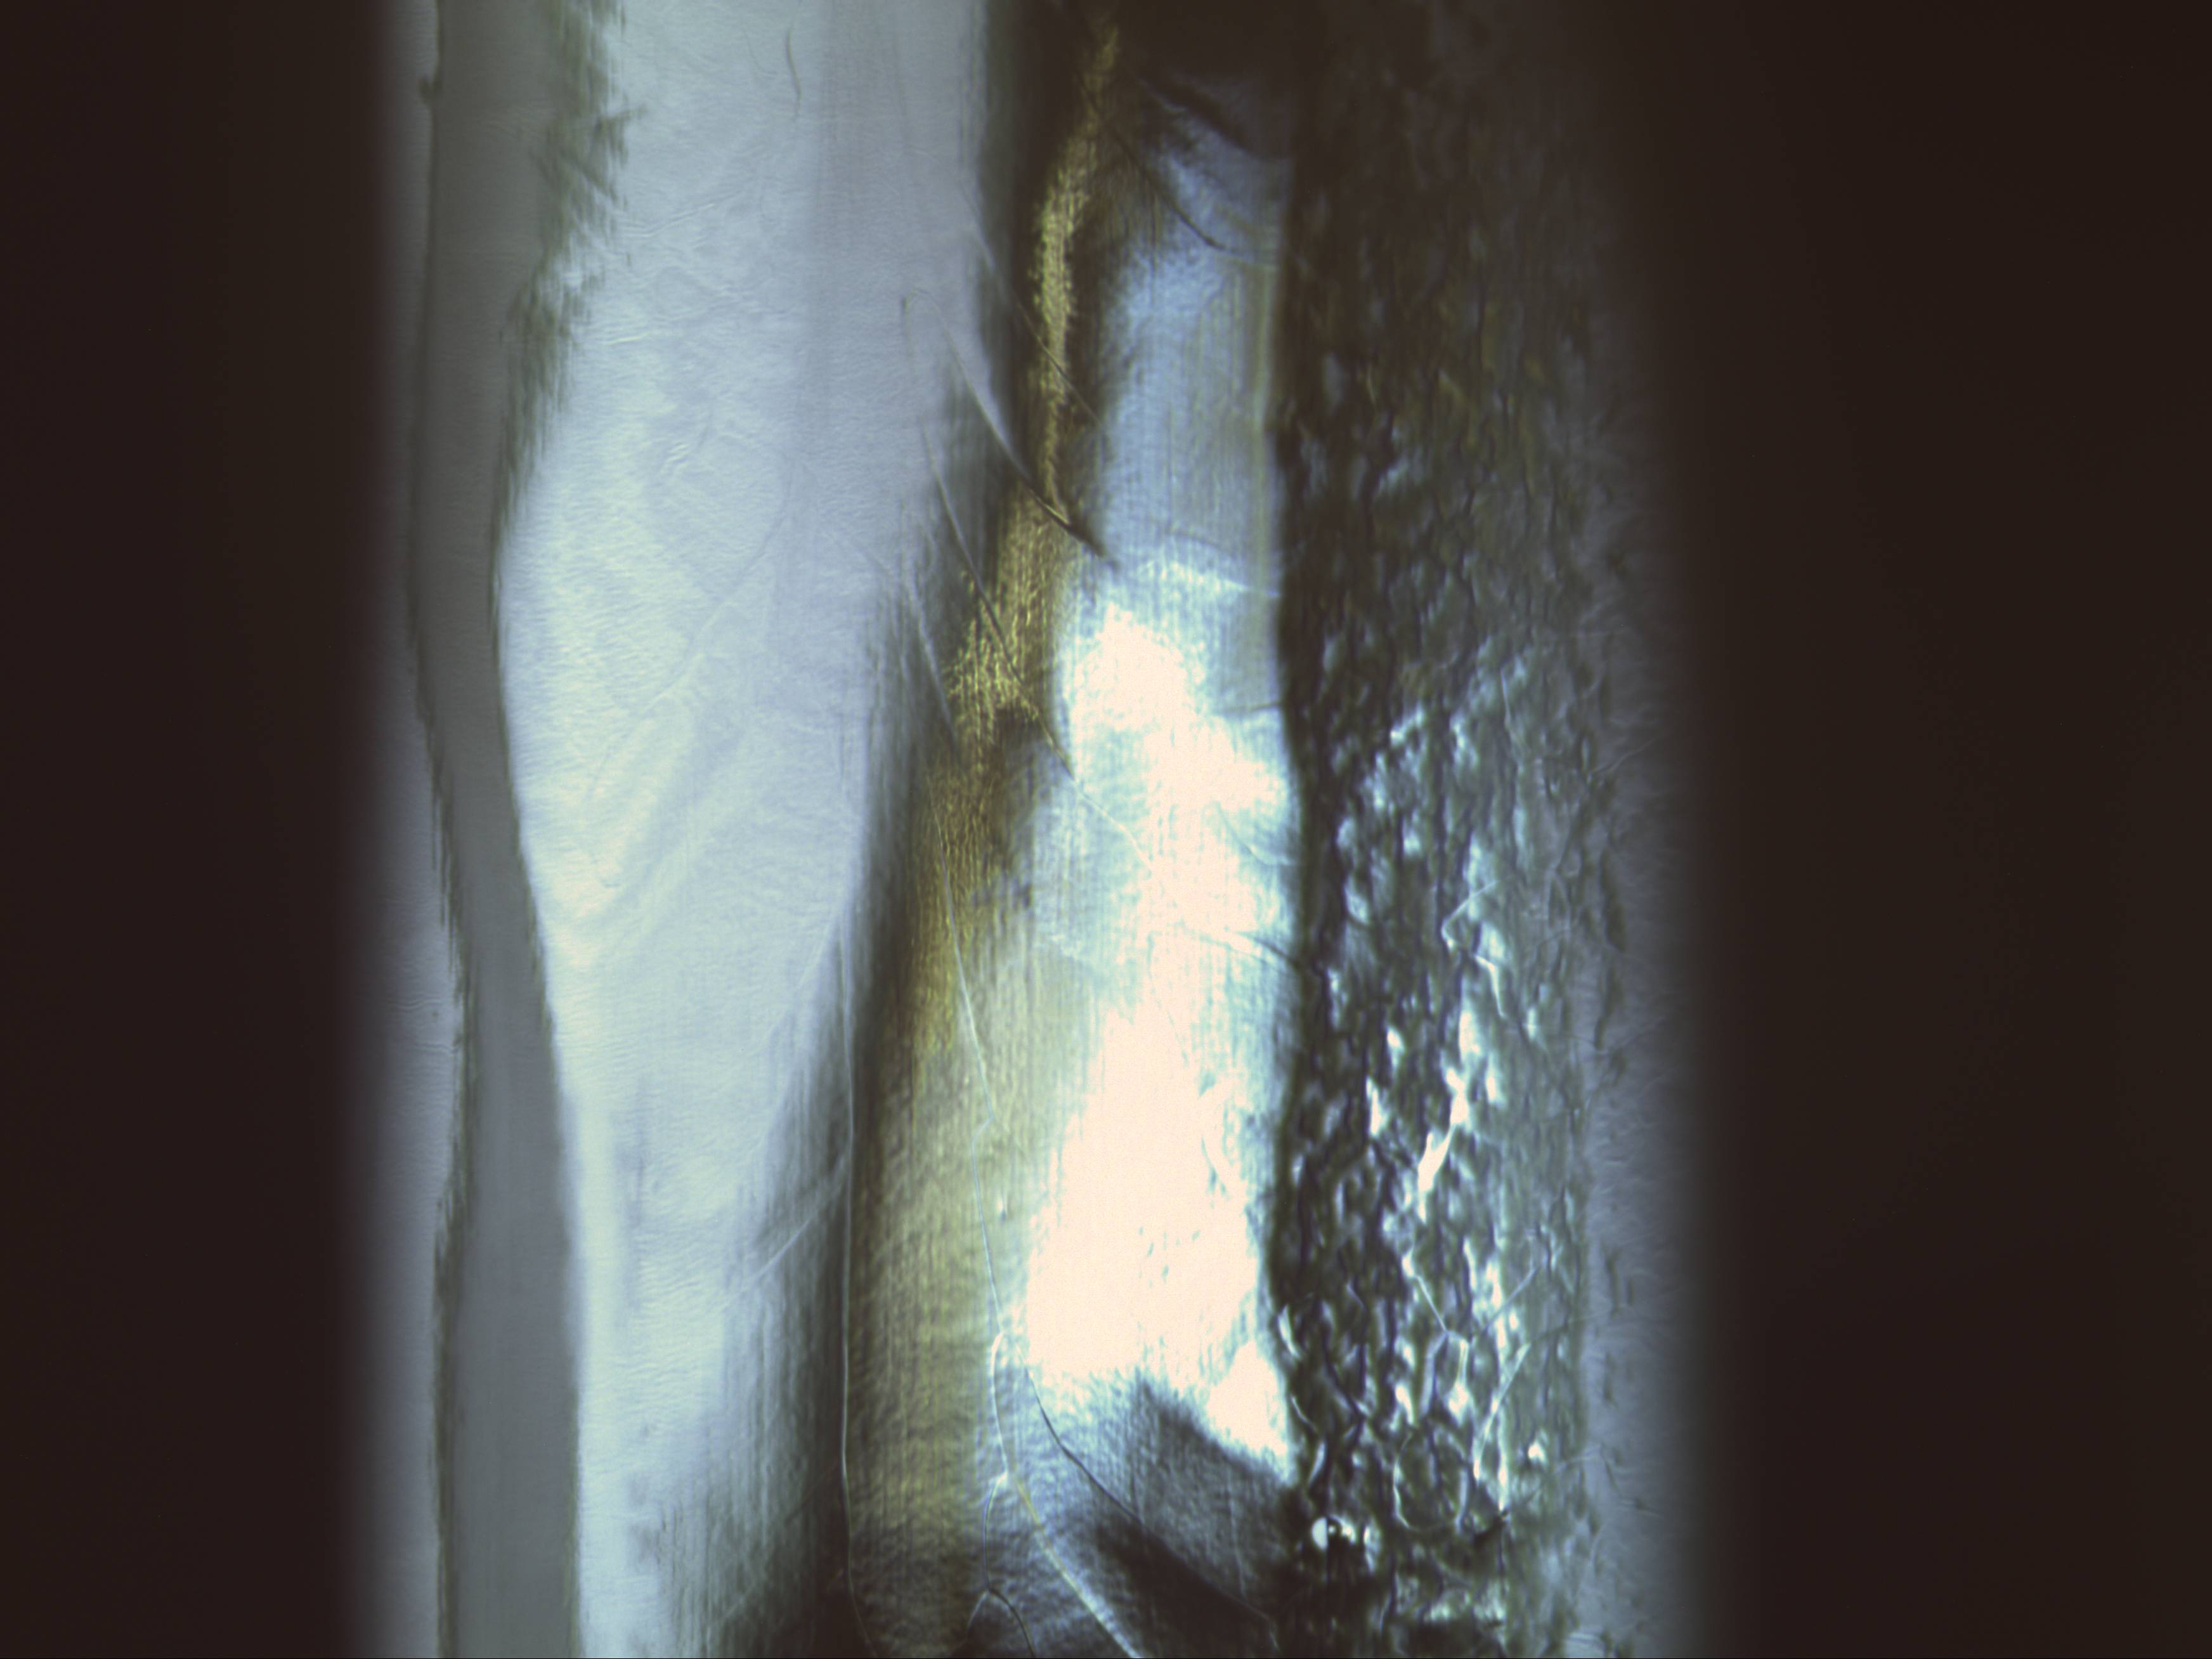defect: (1298, 1504, 1366, 1560)
